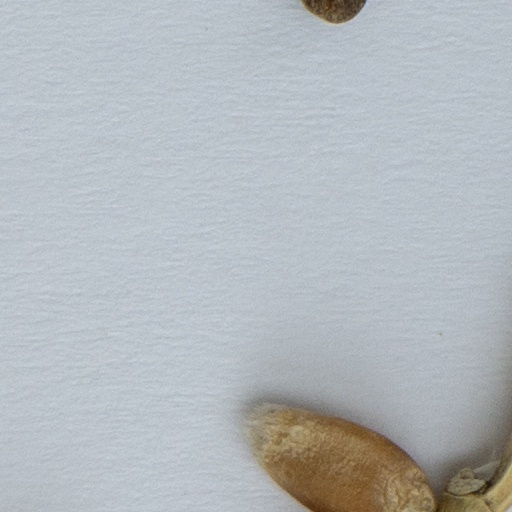Peel-poly: (432, 426, 511, 511)
Wheat-grain-poly: (245, 402, 436, 511)
